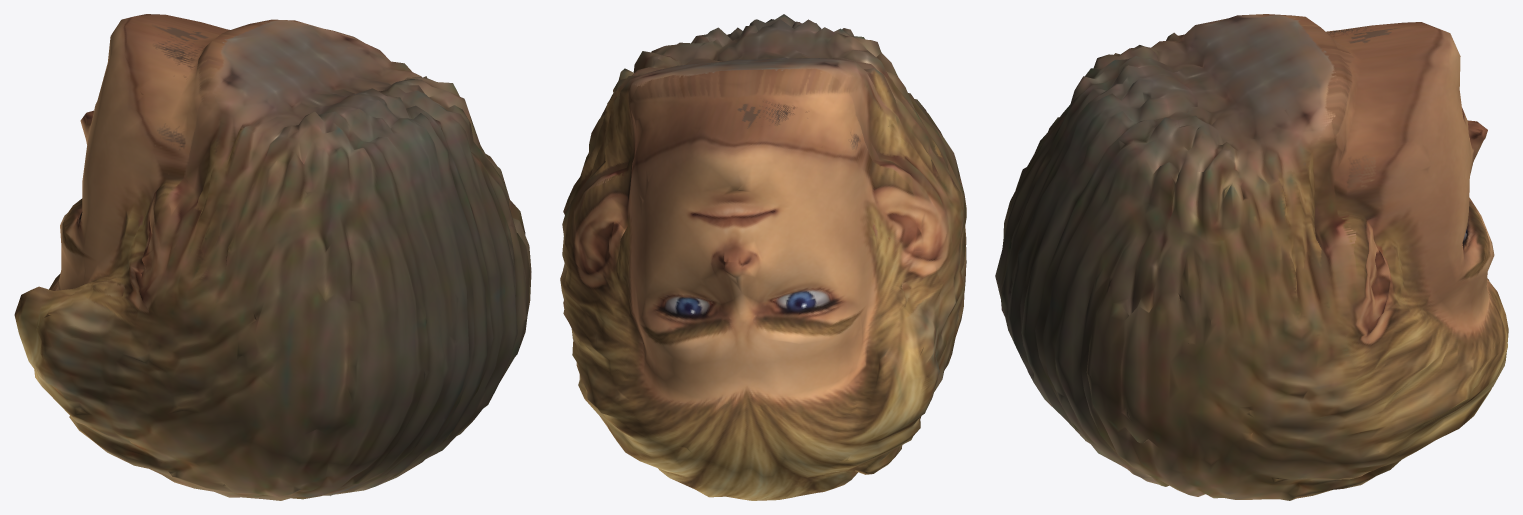
The model's file is combat-fitted-head.glb.
3 renders of one model, left to right at view 1: azimuth 30°, elevation 25°; view 2: azimuth 150°, elevation 25°; view 3: azimuth 270°, elevation 25°, orthographic. The views are drawn at different scales.
Parts seen in each view (by area): view 1: world; view 2: world; view 3: world.
Boxes of the visible parts, x1,y1,x2,y2 form: world: (14,14,531,500); world: (560,14,966,500); world: (995,14,1508,500).
Bounding box in the file's own units: 187 × 188 × 199.
1 material, 1 textured.
